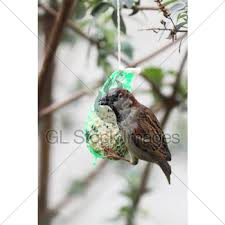hsparrow: (97, 87, 179, 188)
